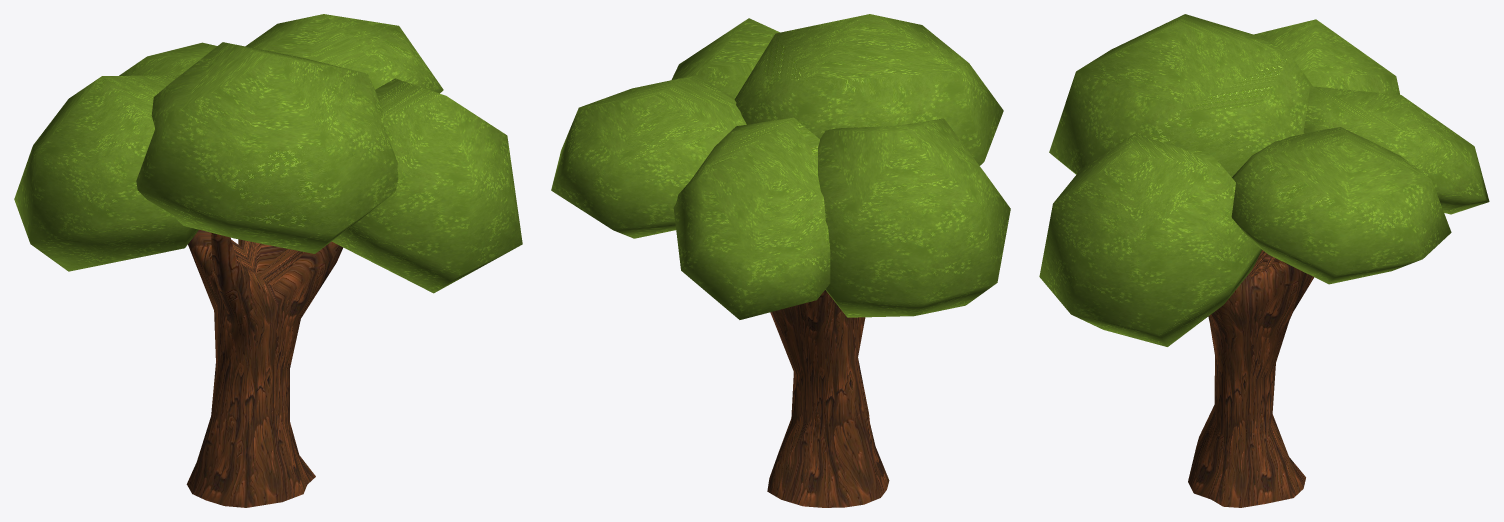
Rendered from Arbre4.fbx.
3 renders of one model, left to right at view 1: azimuth 30°, elevation 25°; view 2: azimuth 150°, elevation 25°; view 3: azimuth 270°, elevation 25°, orthographic.
Visible parts, largest first — view 1: polySurface18, polySurface15, polySurface17, polySurface13, polySurface14, polySurface16; view 2: polySurface13, polySurface16, polySurface18, polySurface14, polySurface15, polySurface17; view 3: polySurface17, polySurface18, polySurface14, polySurface15, polySurface16, polySurface13.
Boxes of the visible parts, box(x1,y1,x2,y2) form: polySurface18: box(136, 42, 398, 253); polySurface15: box(186, 229, 343, 507); polySurface17: box(332, 78, 522, 293); polySurface13: box(14, 75, 198, 271); polySurface14: box(245, 14, 443, 93); polySurface16: box(119, 42, 217, 75); polySurface13: box(818, 118, 1010, 317); polySurface16: box(673, 117, 830, 319); polySurface18: box(734, 14, 1003, 165); polySurface14: box(551, 75, 746, 238); polySurface15: box(767, 290, 889, 507); polySurface17: box(671, 18, 779, 98); polySurface17: box(1039, 133, 1261, 346); polySurface18: box(1049, 14, 1312, 177); polySurface14: box(1231, 127, 1451, 284); polySurface15: box(1188, 250, 1314, 507); polySurface16: box(1303, 86, 1489, 214); polySurface13: box(1254, 19, 1400, 94).
Bounding box in the file's own units: 12.12 × 12.46 × 11.28.
Materials: 2 (2 with a texture image).
